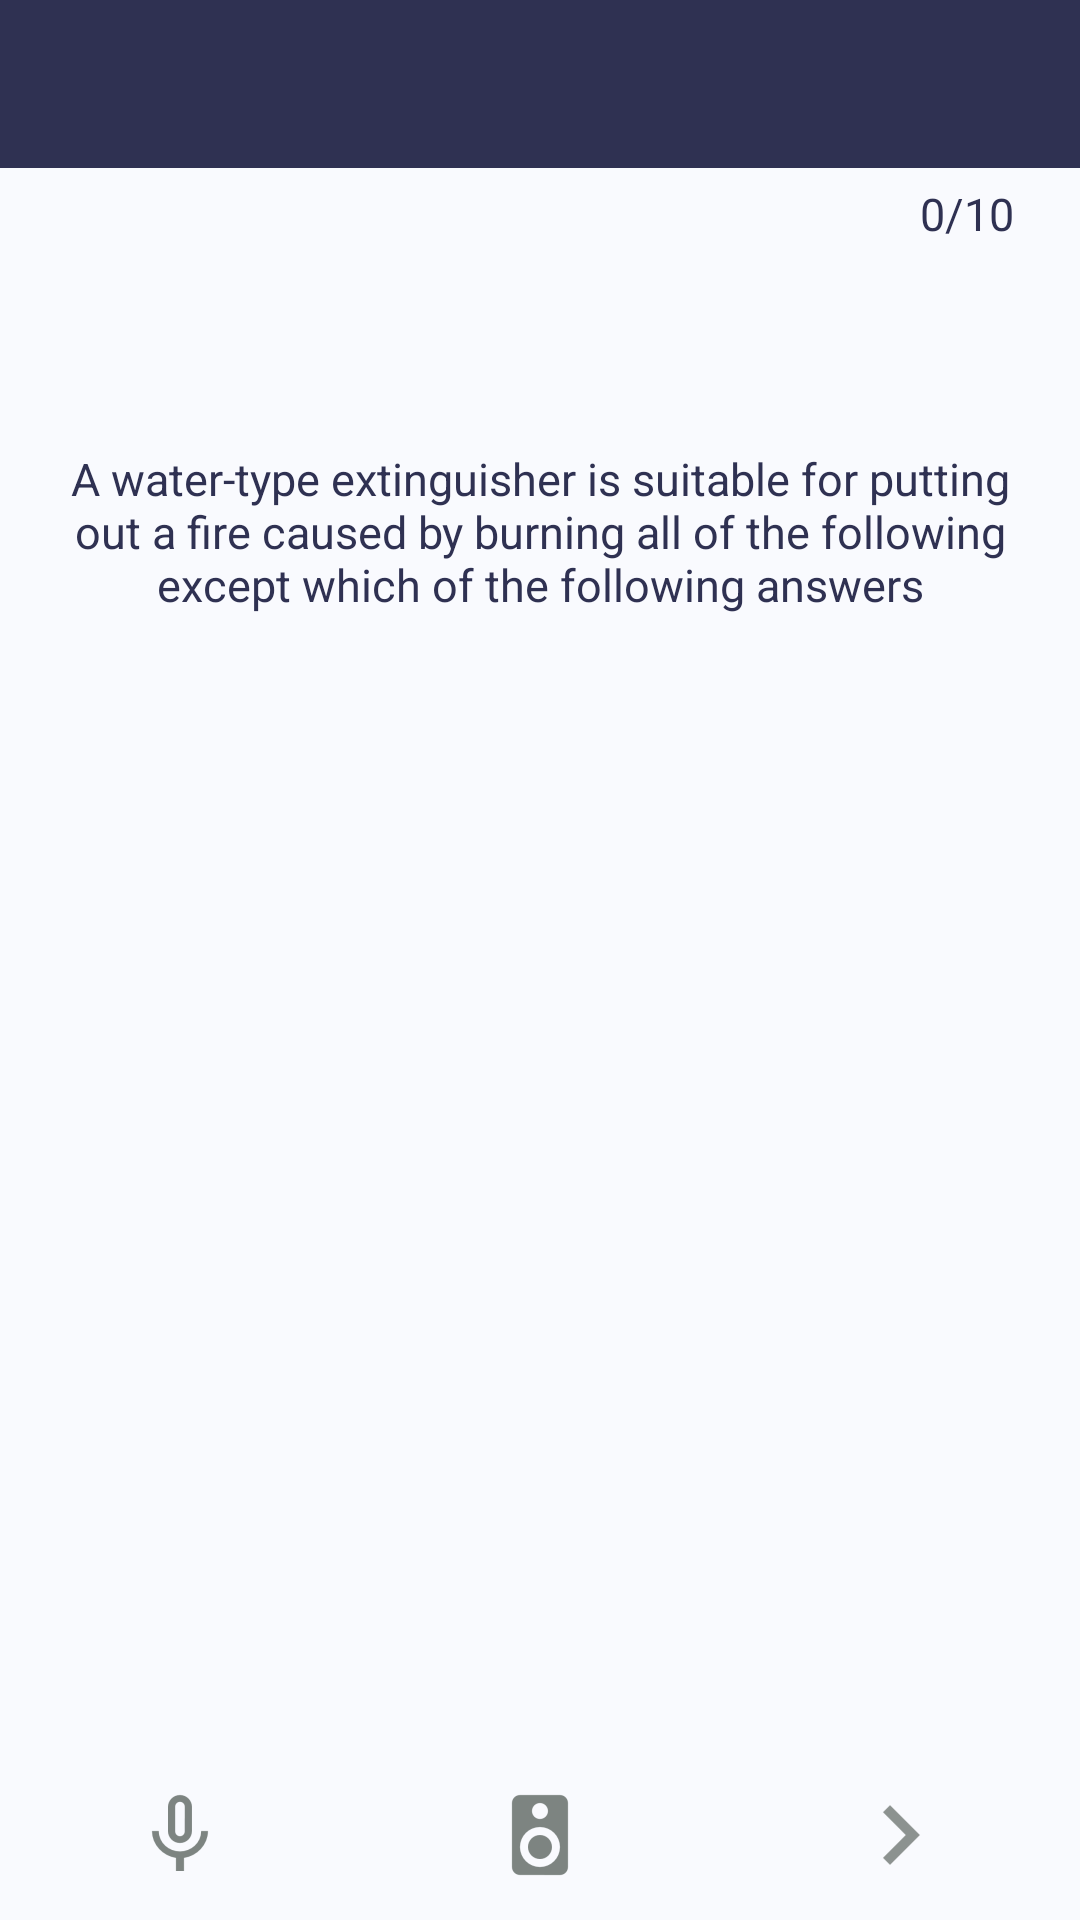

Locate icon controls on the screen. Image size 1080px x 1920px, boxes as [x1, y1, x2, y2].
mic: [152, 1795, 208, 1871]
next: [883, 1805, 920, 1865]
speak: [512, 1795, 568, 1875]
